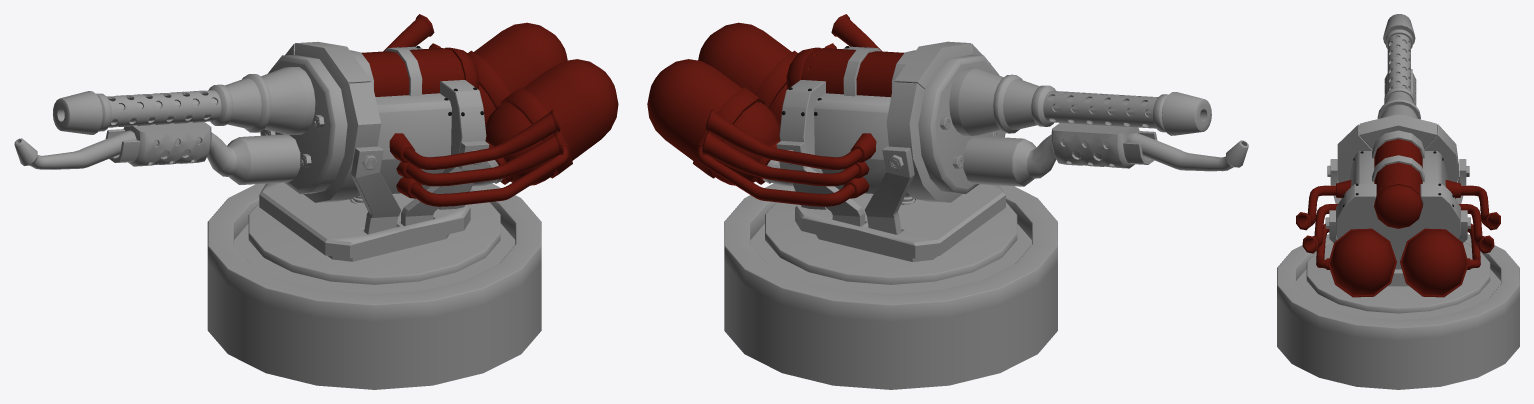
File: flamethrower.fbx
The picture shows the model from 3 angles, left to right: view 1: azimuth 30°, elevation 25°; view 2: azimuth 150°, elevation 25°; view 3: azimuth 270°, elevation 25°; orthographic projection. The views are drawn at different scales.
Visible parts, largest first — view 1: Cylinder019, Object028, Capsule002, Box001, Cylinder003, Cylinder008, Cylinder004, Capsule005, Object007, Capsule001, Cylinder009, Object004 (+6 smaller); view 2: Cylinder019, Object028, Capsule005, Box001, Cylinder003, Cylinder008, Cylinder004, Capsule002, Object007, Capsule001, Cylinder009, Object016 (+6 smaller); view 3: Cylinder019, Cylinder003, Capsule002, Capsule005, Capsule001, Cylinder004, Object028, Object004, Object016, Object003, Object017, Object015 (+6 smaller).
Part boxes in pixels (bbox=[...]): Cylinder019: bbox=[207, 183, 541, 389]; Object028: bbox=[52, 67, 315, 134]; Capsule002: bbox=[396, 59, 618, 206]; Box001: bbox=[259, 182, 470, 258]; Cylinder003: bbox=[356, 46, 486, 209]; Cylinder008: bbox=[14, 130, 300, 184]; Cylinder004: bbox=[285, 42, 381, 202]; Capsule005: bbox=[467, 22, 567, 124]; Object007: bbox=[260, 54, 347, 194]; Capsule001: bbox=[361, 47, 478, 96]; Cylinder009: bbox=[105, 122, 211, 166]; Object004: bbox=[389, 109, 560, 169]; Cylinder019: bbox=[724, 183, 1057, 389]; Object028: bbox=[949, 67, 1211, 135]; Capsule005: bbox=[647, 59, 869, 206]; Box001: bbox=[795, 184, 1005, 258]; Cylinder003: bbox=[779, 46, 909, 209]; Cylinder008: bbox=[963, 132, 1248, 186]; Cylinder004: bbox=[886, 41, 990, 202]; Capsule002: bbox=[698, 22, 797, 125]; Object007: bbox=[918, 54, 1005, 193]; Capsule001: bbox=[786, 47, 904, 96]; Cylinder009: bbox=[1051, 123, 1157, 168]; Object016: bbox=[705, 109, 876, 169]; Cylinder019: bbox=[1277, 234, 1519, 389]; Cylinder003: bbox=[1336, 151, 1460, 269]; Capsule002: bbox=[1316, 223, 1396, 297]; Capsule005: bbox=[1400, 223, 1480, 297]; Capsule001: bbox=[1374, 139, 1422, 228]; Cylinder004: bbox=[1337, 114, 1458, 182]; Object028: bbox=[1377, 14, 1420, 119]; Object004: bbox=[1296, 180, 1351, 230]; Object016: bbox=[1445, 180, 1500, 230]; Object003: bbox=[1302, 204, 1337, 253]; Object017: bbox=[1459, 204, 1494, 253]; Object015: bbox=[1372, 130, 1424, 158].
Size of the model in its own units: 320596 by 158189 by 162342.
